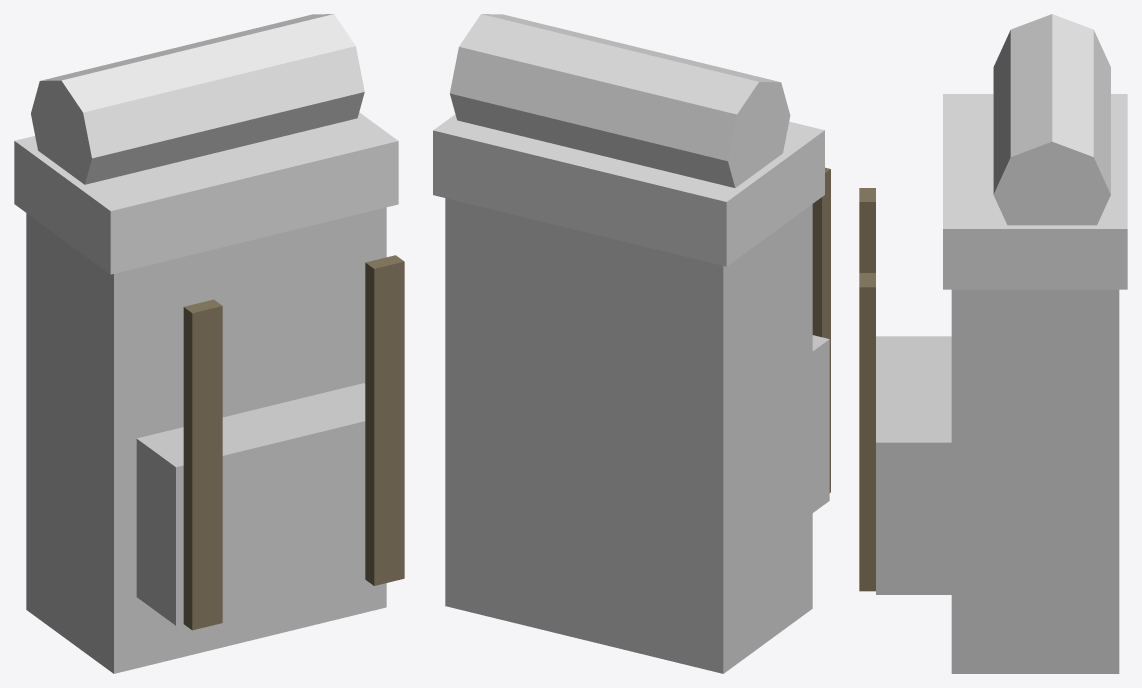
File: backpack.glb
3 renders of one model, left to right at view 1: azimuth 30°, elevation 25°; view 2: azimuth 150°, elevation 25°; view 3: azimuth 270°, elevation 25°, orthographic. The views are drawn at different scales.
Visible parts, largest first — view 1: backpack; view 2: backpack; view 3: backpack.
Boxes of the visible parts, bbox=[...] form: backpack: bbox=[14, 14, 404, 673]; backpack: bbox=[433, 14, 830, 673]; backpack: bbox=[859, 14, 1127, 673].
Bounding box in the file's own units: 0.38 × 0.7 × 0.32.
